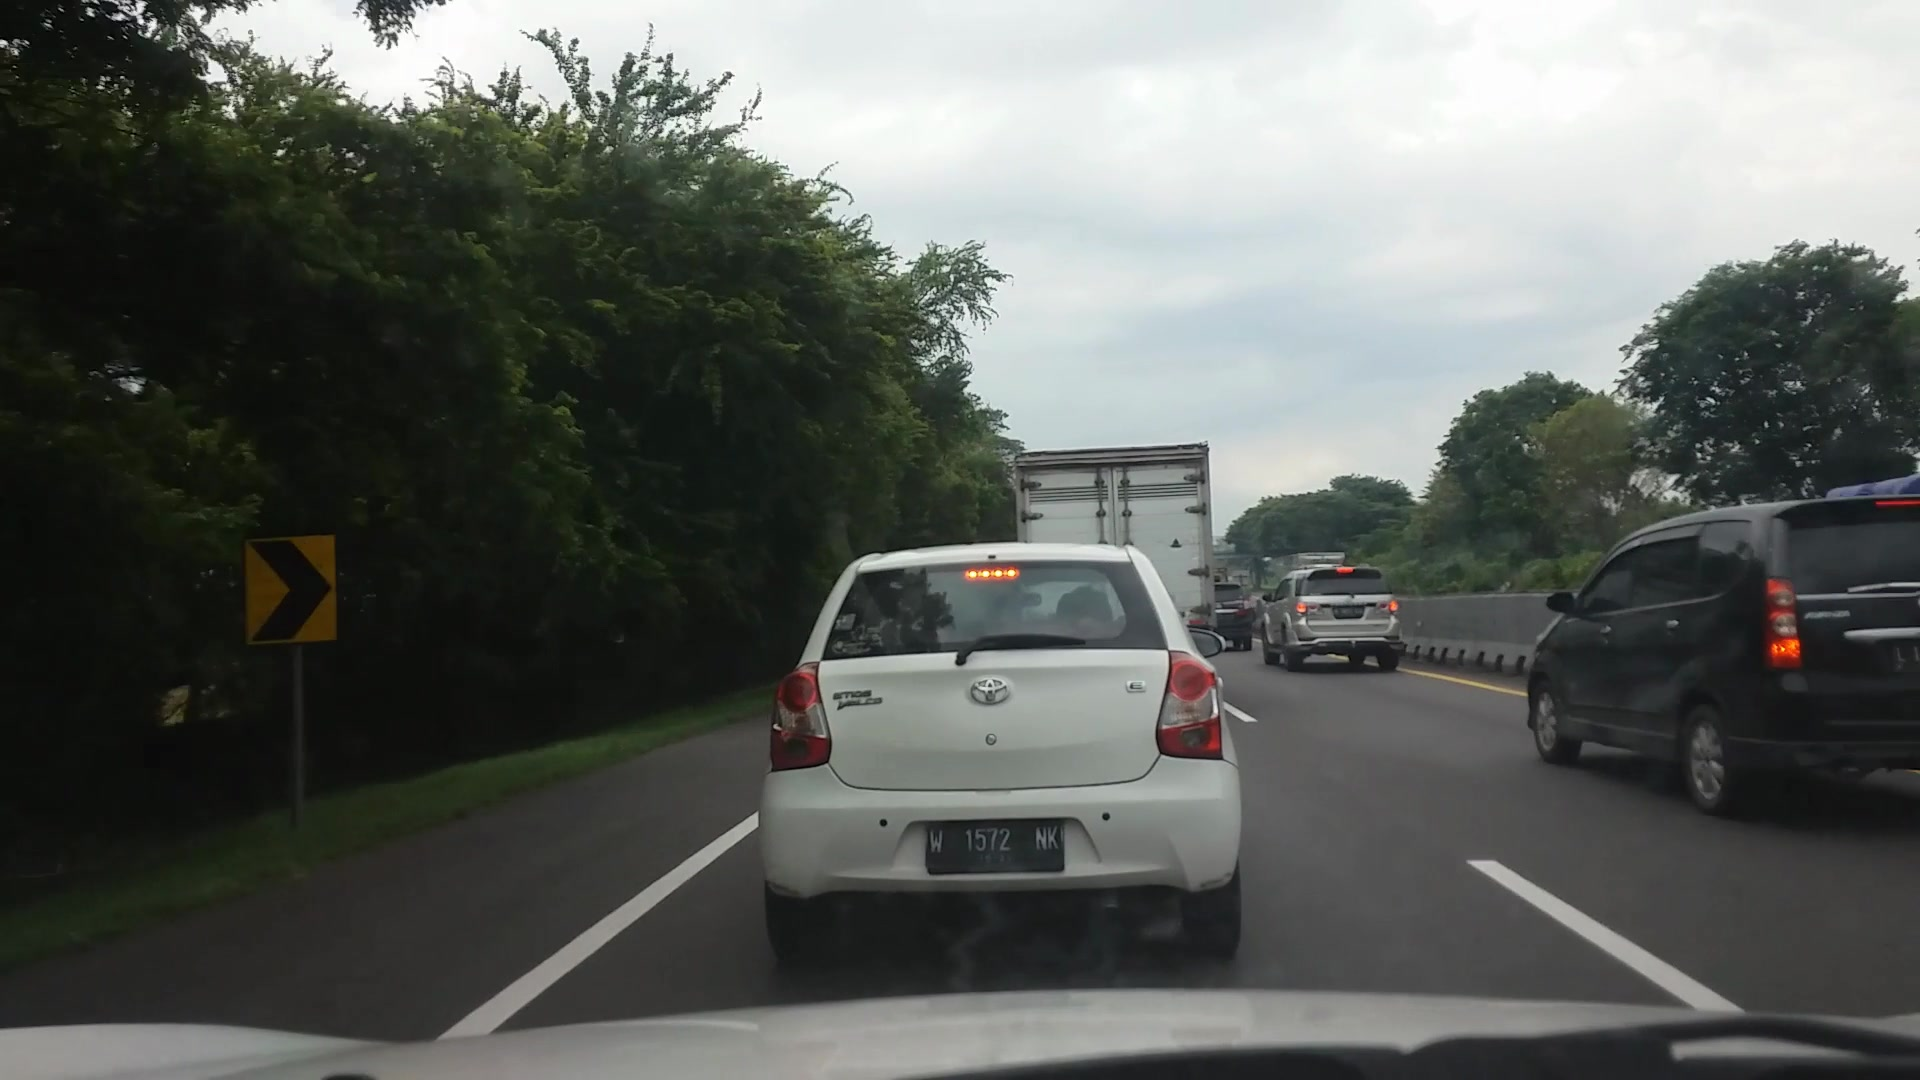plate_positive: (927, 822, 1064, 872)
